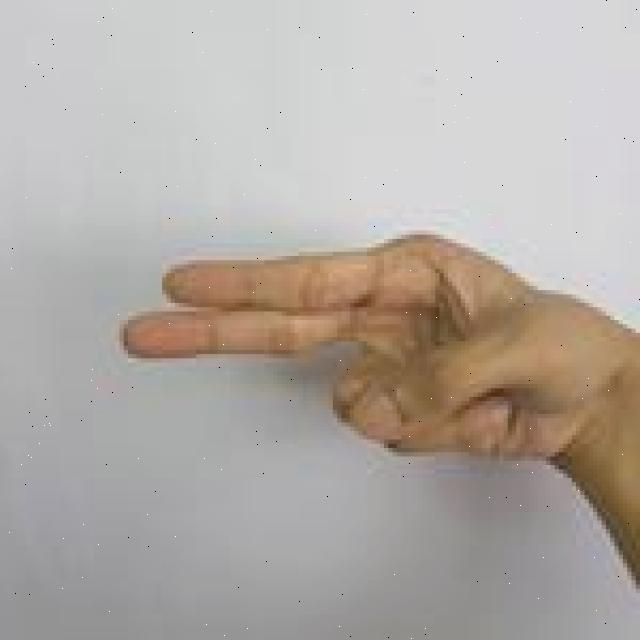H: (117, 226, 640, 602), (118, 229, 640, 592)
